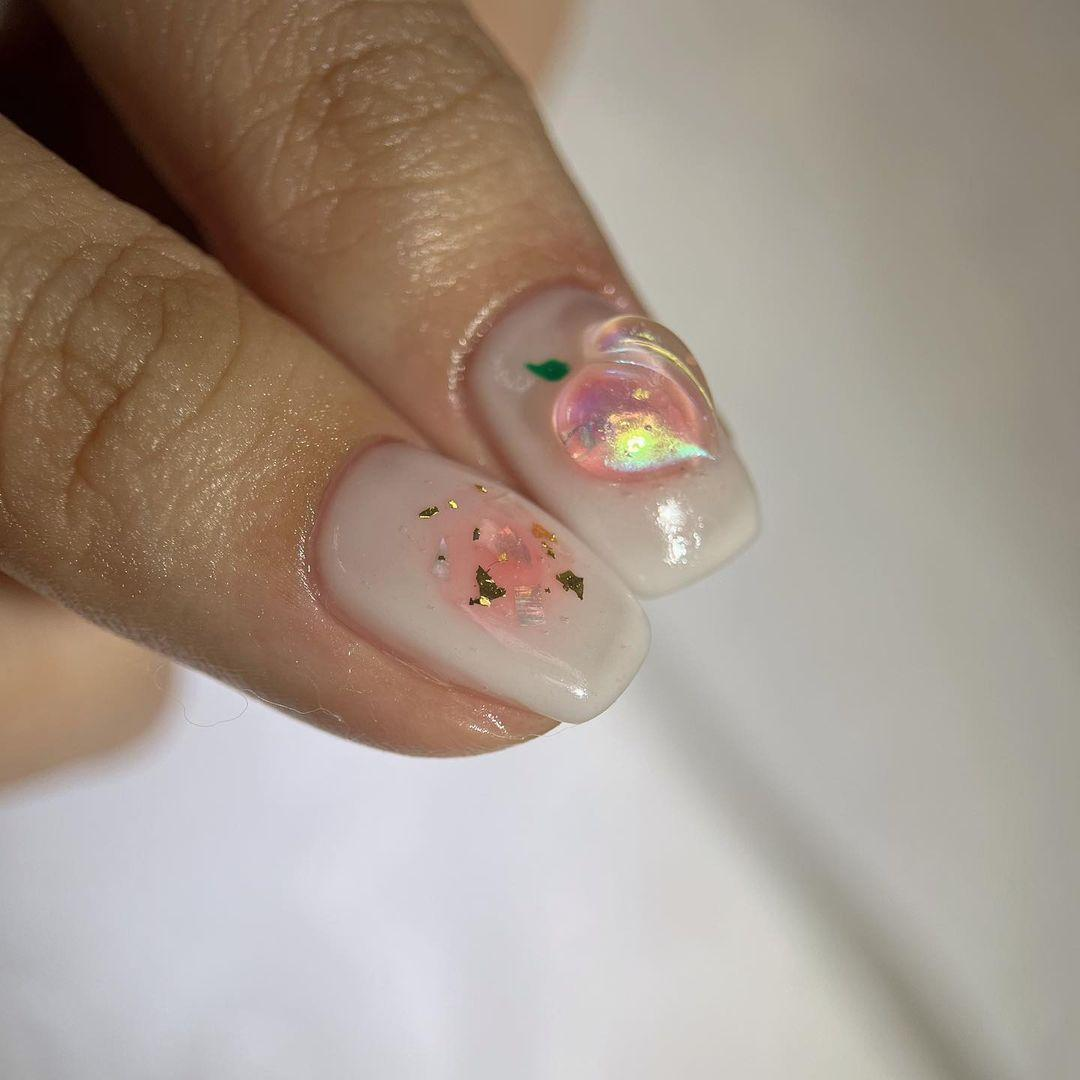nail: (305, 433, 652, 726), (458, 277, 761, 599)
